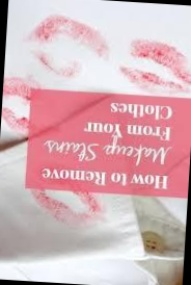lipstick: (22, 6, 114, 64), (119, 36, 191, 96), (26, 188, 93, 230), (29, 38, 89, 78), (1, 104, 30, 135), (67, 188, 106, 210), (3, 75, 28, 99)
